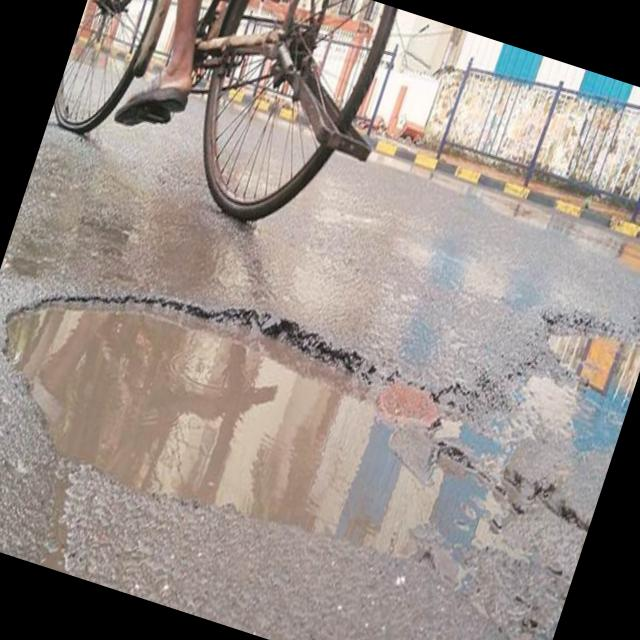Potholes: (0, 200, 631, 640), (513, 217, 640, 394)
